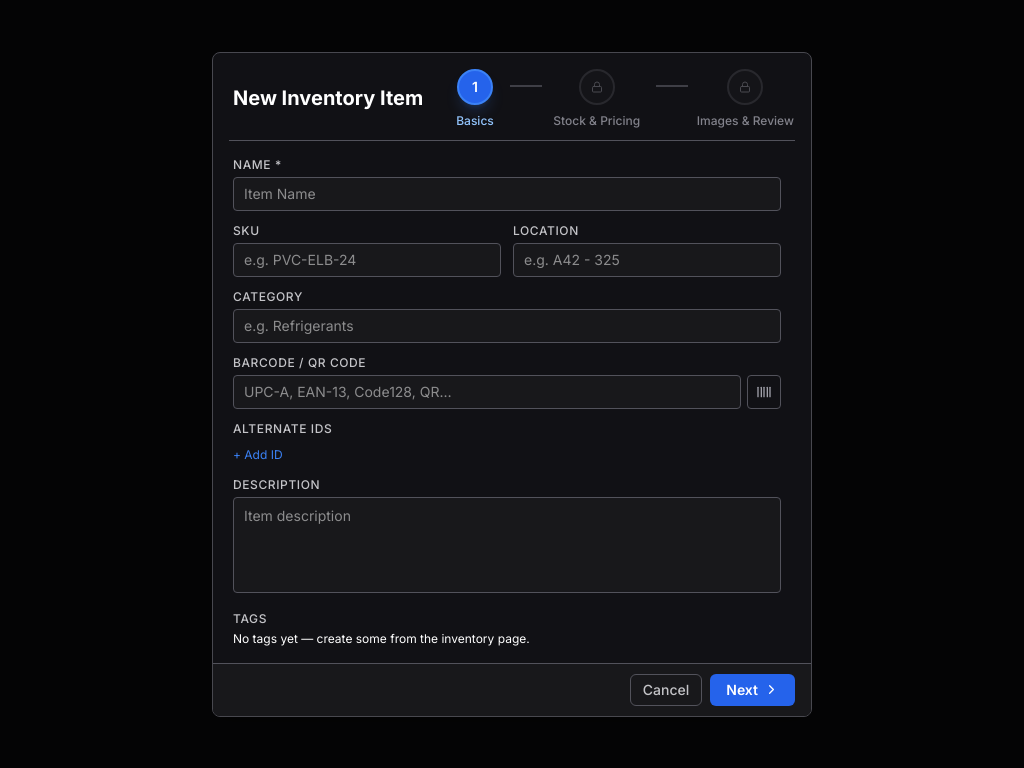
Test: step gating › advances once the step 1 errors are fixed, with no location
Click the button "Next": (753, 690) [710,674,795,706]
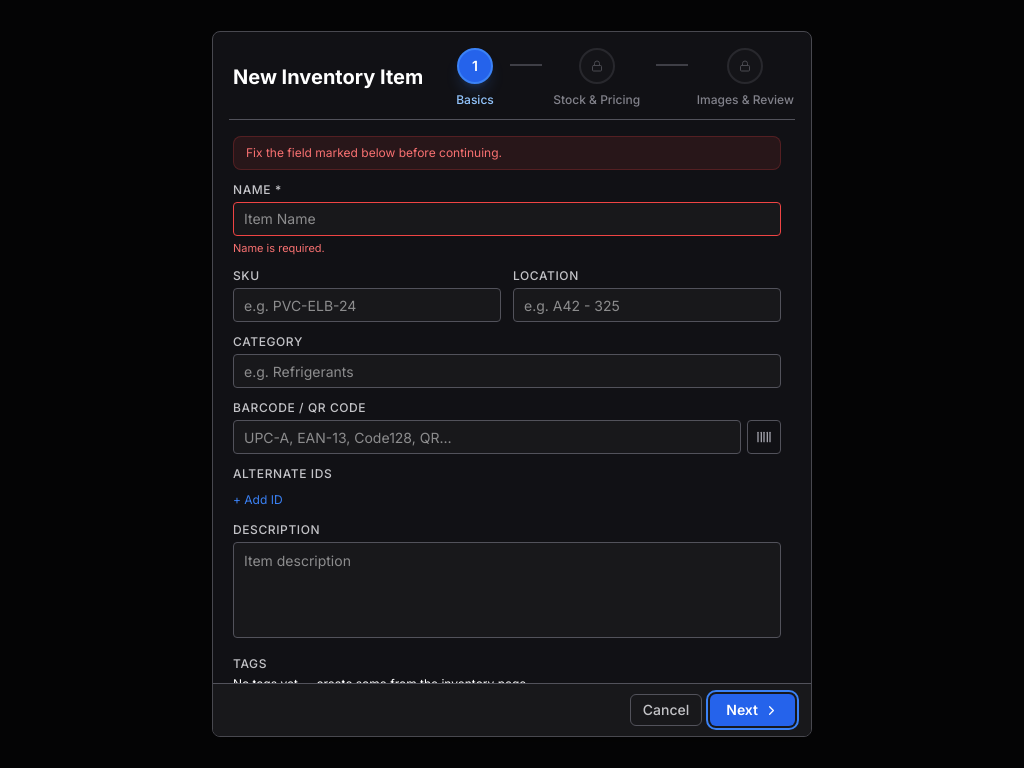
In the field with placeholder "Item Name": (507, 219) [233,202,781,236], type "Widget"
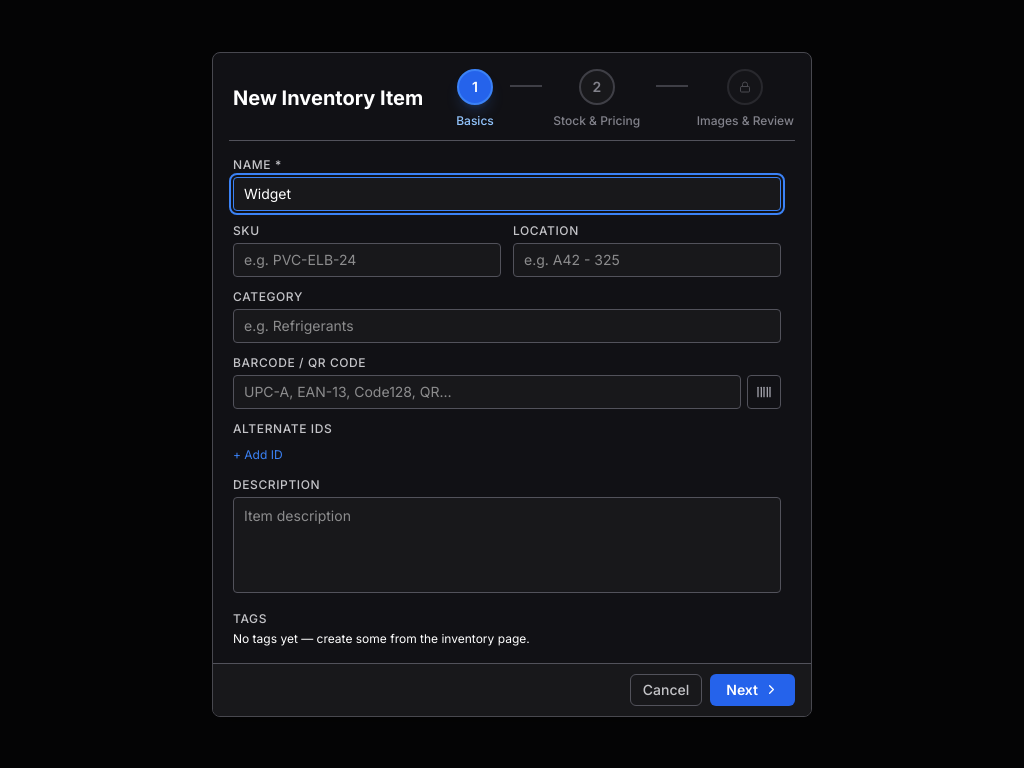
Click the button "Next": (753, 690) [710,674,795,706]
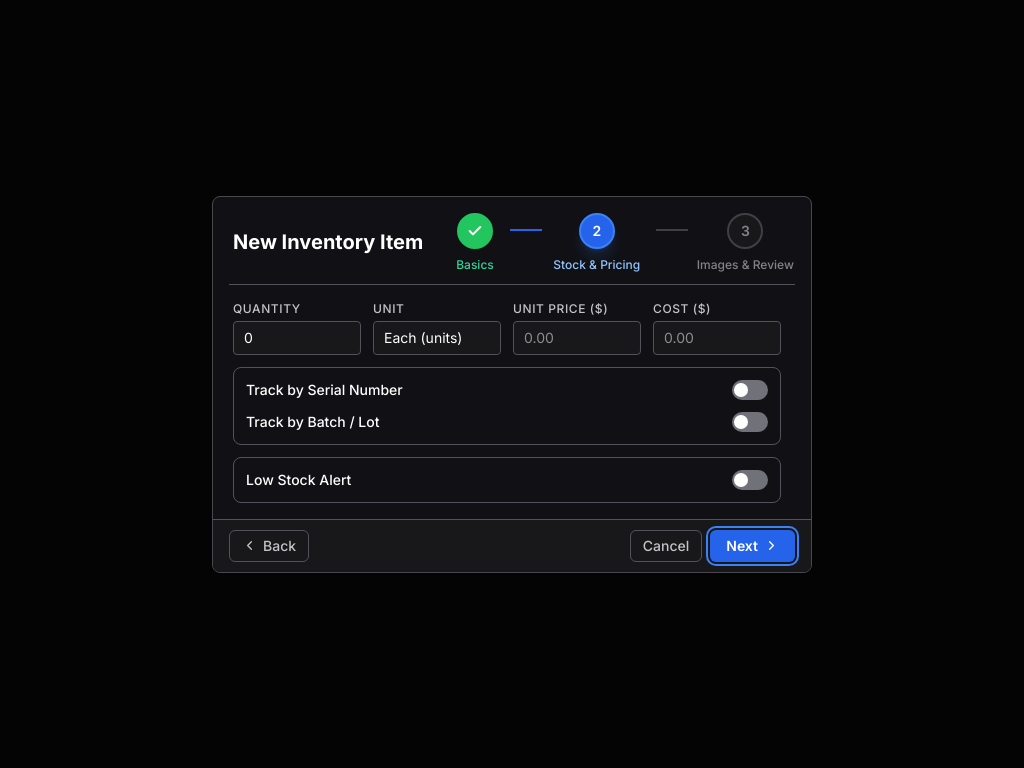
Result: the number field named "Quantity" is shown at [233,320,361,354]
